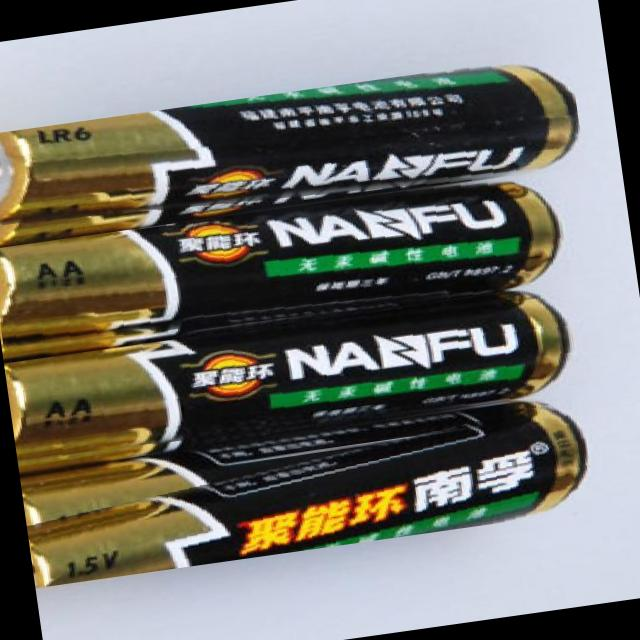Hazard: (0, 52, 585, 253), (0, 170, 570, 368), (19, 398, 595, 588), (3, 284, 581, 472)
